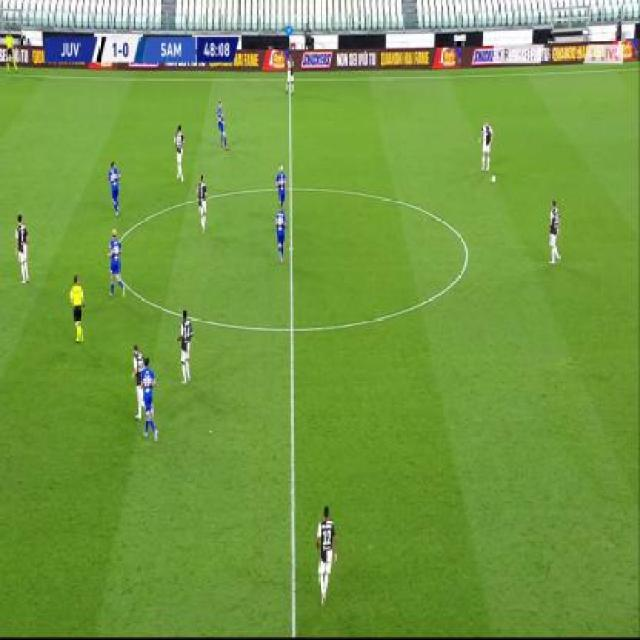ball: (490, 173, 496, 184)
player: (313, 501, 338, 606), (141, 352, 160, 443), (106, 226, 126, 300), (12, 211, 31, 285), (176, 309, 193, 386), (69, 272, 86, 343), (546, 196, 562, 267), (131, 340, 144, 423), (478, 117, 494, 173), (195, 172, 209, 234), (275, 202, 288, 265), (173, 123, 186, 185), (107, 159, 121, 216), (215, 99, 229, 150), (275, 165, 288, 213), (4, 29, 17, 74), (285, 53, 296, 96)
